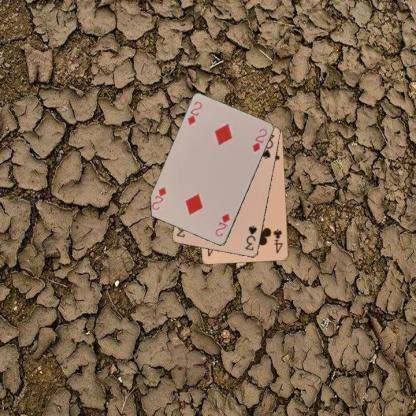2d: (184, 98, 204, 127), (213, 209, 231, 238)
3s: (242, 223, 258, 252)
4c: (270, 226, 284, 255)
